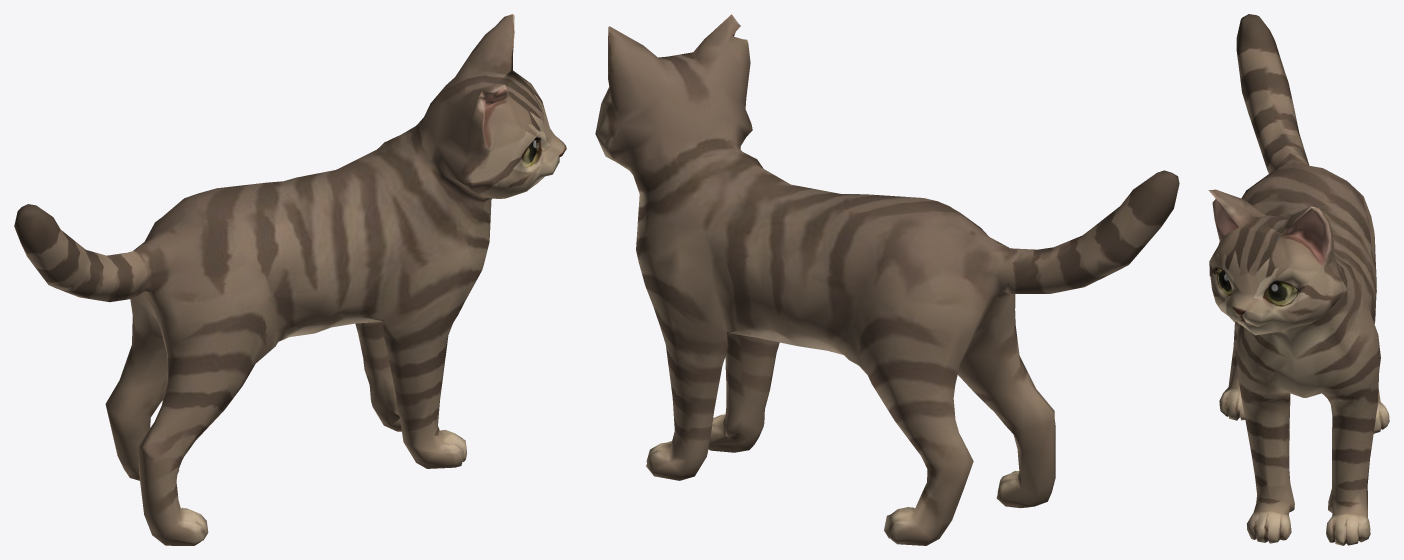
File: COBBLEPAW-lo.glb
3 renders of one model, left to right at view 1: azimuth 30°, elevation 25°; view 2: azimuth 150°, elevation 25°; view 3: azimuth 270°, elevation 25°, orthographic. The views are drawn at different scales.
Visible parts, largest first — view 1: tripo_node_63d047de-64e6-4669-bd33-42e8532b369a; view 2: tripo_node_63d047de-64e6-4669-bd33-42e8532b369a; view 3: tripo_node_63d047de-64e6-4669-bd33-42e8532b369a.
Boxes of the visible parts, <box> form: tripo_node_63d047de-64e6-4669-bd33-42e8532b369a: <box>14,14,566,545</box>; tripo_node_63d047de-64e6-4669-bd33-42e8532b369a: <box>595,14,1179,545</box>; tripo_node_63d047de-64e6-4669-bd33-42e8532b369a: <box>1208,14,1389,545</box>.
Bounding box in the file's own units: 1.39 × 1 × 0.4416.
1 material, 1 textured.
